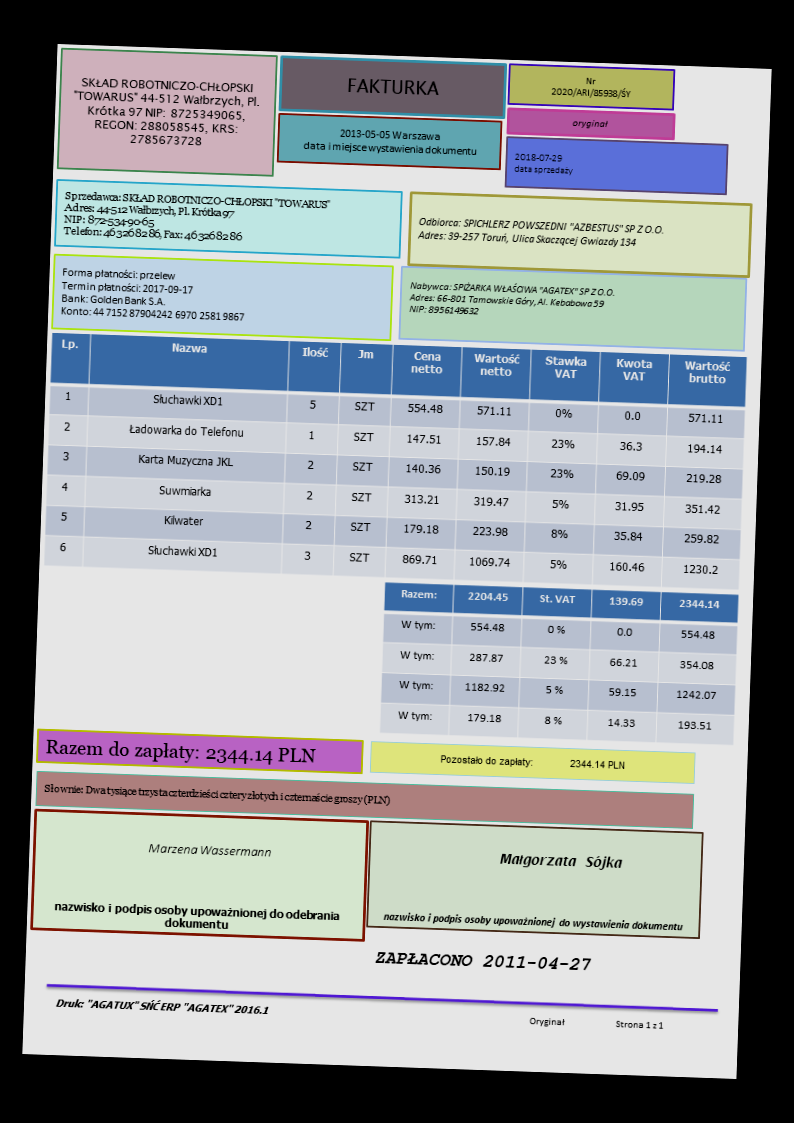Table: (42, 331, 749, 593), (378, 580, 740, 747)
TextBox: (61, 187, 332, 249), (70, 74, 262, 152), (50, 897, 343, 936), (58, 264, 247, 323), (42, 779, 392, 810), (43, 731, 318, 769), (414, 212, 666, 253), (406, 277, 617, 324), (381, 908, 685, 934), (373, 947, 592, 975), (301, 125, 479, 158), (54, 994, 271, 1017), (437, 749, 628, 774), (526, 1011, 667, 1034), (497, 848, 624, 872), (144, 839, 275, 861), (549, 71, 634, 102), (344, 74, 443, 99), (512, 149, 574, 178), (570, 115, 610, 132)
